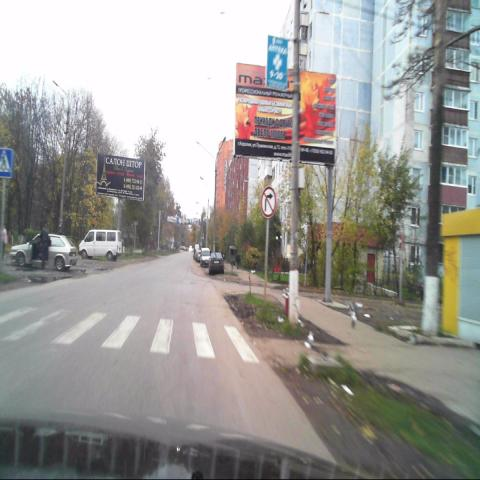3_18: (262, 186, 274, 217)
